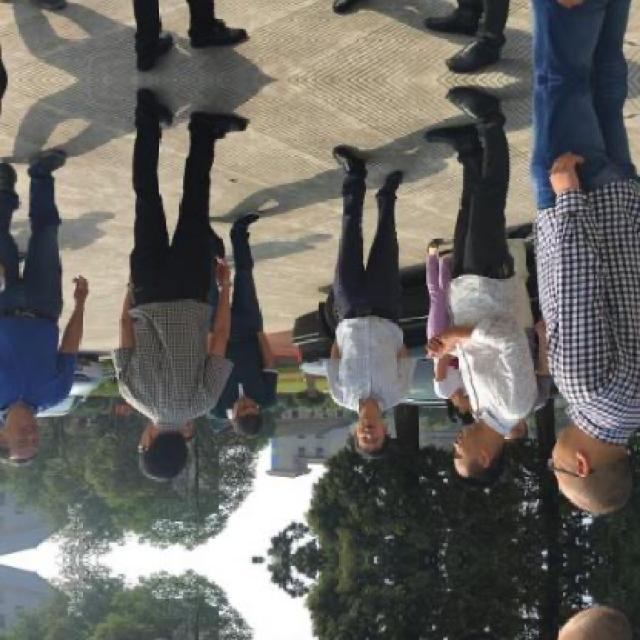sin casco: (534, 399, 640, 530), (446, 396, 543, 493), (134, 412, 212, 495), (0, 398, 76, 474), (338, 386, 397, 451), (221, 384, 270, 439)
